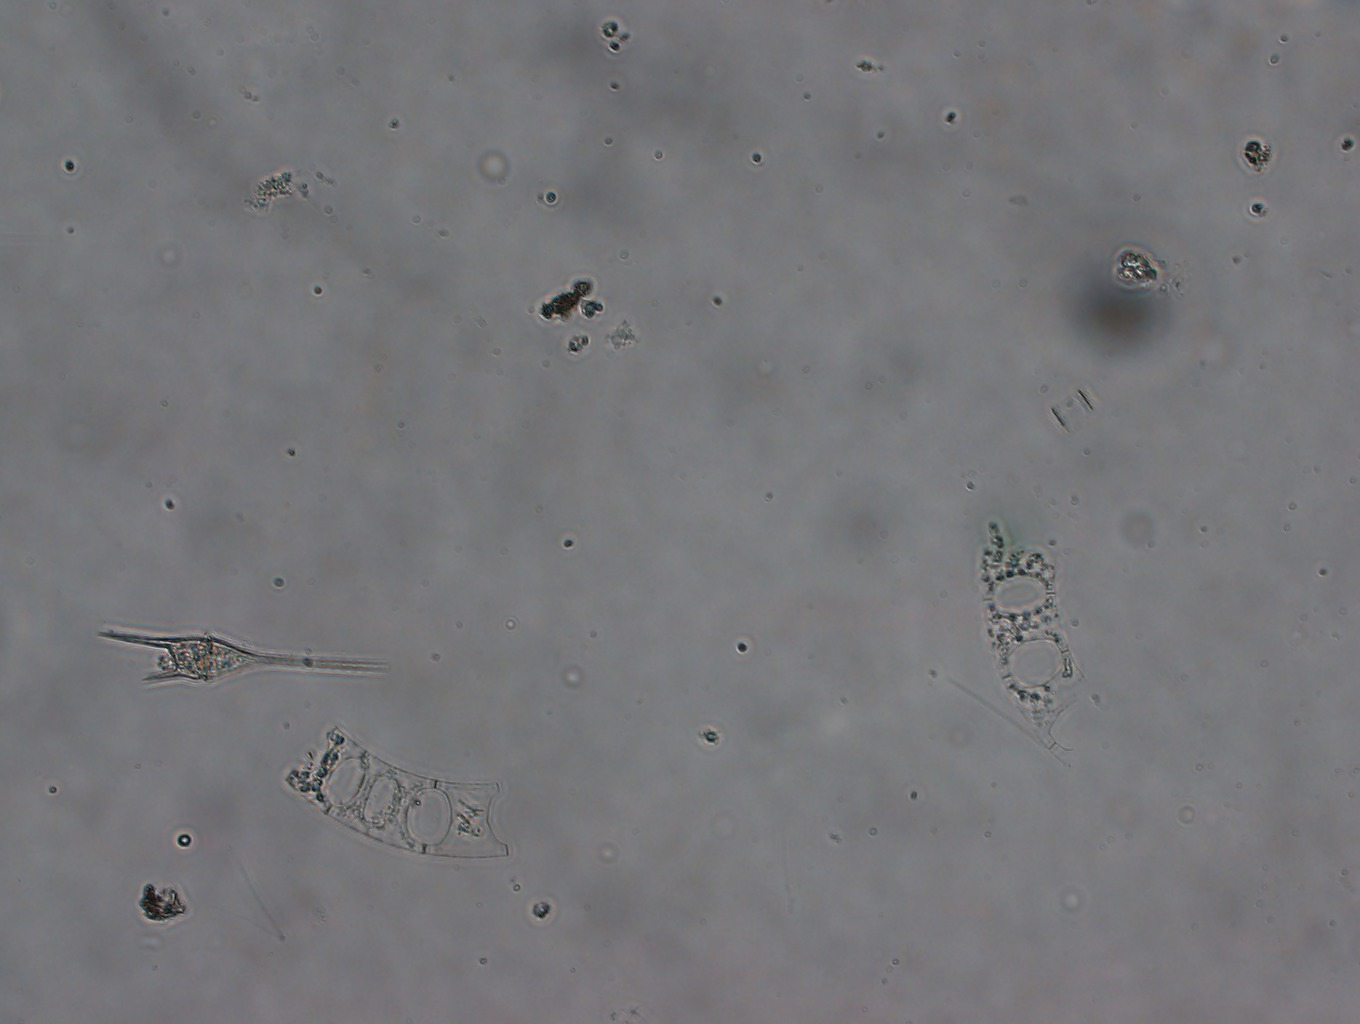ceratium furca: (96, 629, 391, 686)
eucampia: (975, 513, 1101, 759), (281, 725, 509, 859)
